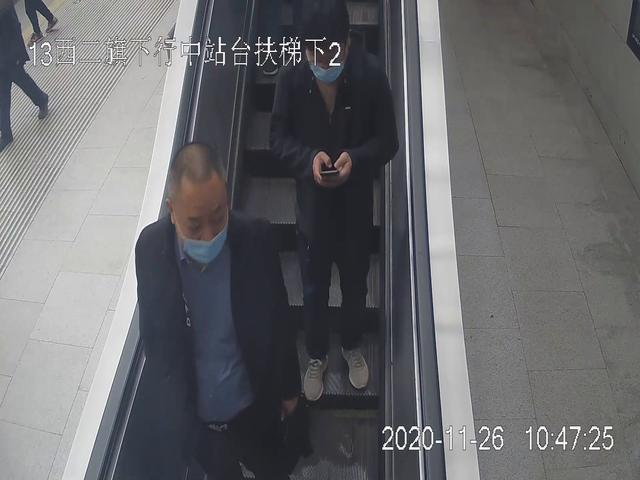person: (135, 143, 300, 480), (272, 1, 400, 402)
